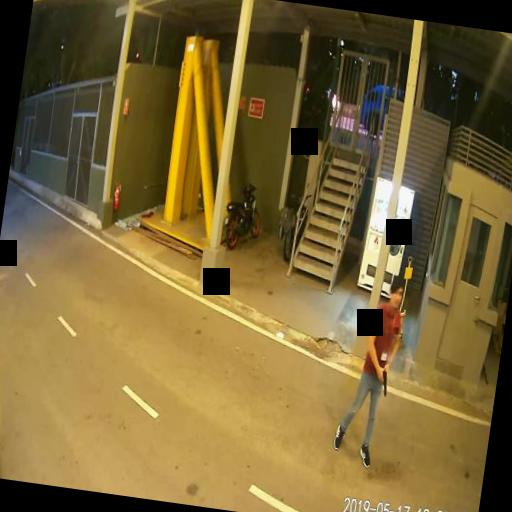Handgun: (375, 366, 388, 395)
